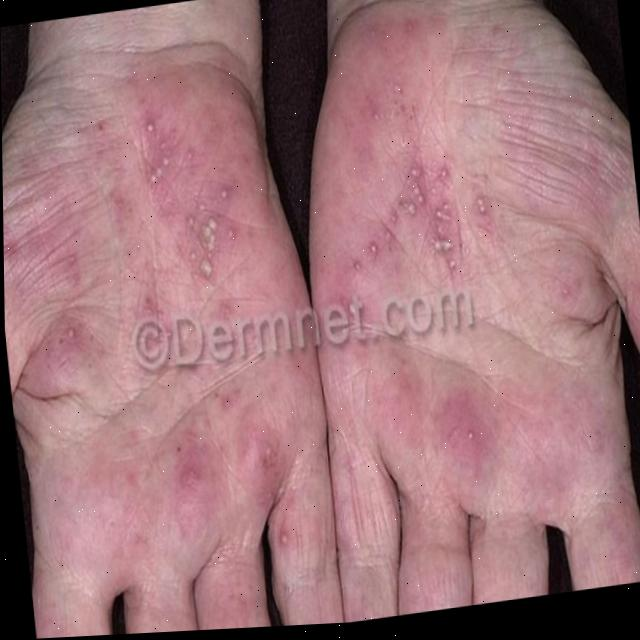Eczema: (36, 51, 546, 511)
